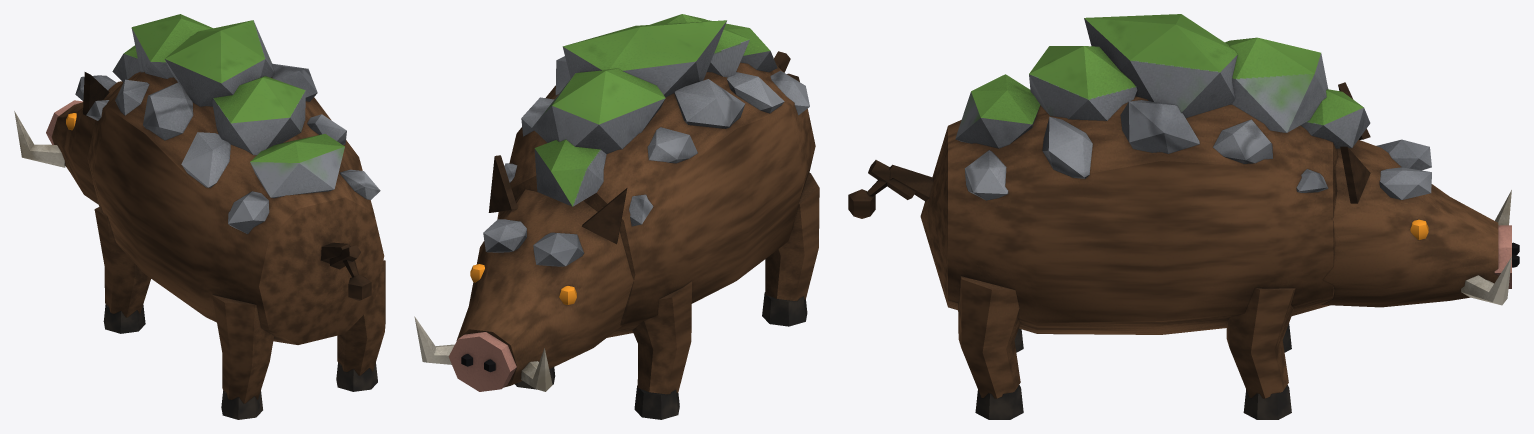
File: jabali_roca.fbx
3 renders of one model, left to right at view 1: azimuth 30°, elevation 25°; view 2: azimuth 150°, elevation 25°; view 3: azimuth 270°, elevation 25°, orthographic. The views are drawn at different scales.
Parts seen in each view (by area): view 1: jabali_roca, jabali_roca_pata_tras_der, jabali_roca_cabeza, jabali_roca_pata_del_der, jabali_roca_pata_tras_izq, jabali_roca_cola; view 2: jabali_roca, jabali_roca_cabeza, jabali_roca_pata_del_der, jabali_roca_pata_tras_der; view 3: jabali_roca, jabali_roca_cabeza, jabali_roca_pata_tras_izq, jabali_roca_pata_del_izq, jabali_roca_cola.
Part boxes in pixels (left/top/right/bottom): jabali_roca: left=86, top=14, right=384, bottom=344; jabali_roca_pata_tras_der: left=212, top=295, right=274, bottom=419; jabali_roca_cabeza: left=14, top=72, right=122, bottom=204; jabali_roca_pata_del_der: left=94, top=206, right=150, bottom=333; jabali_roca_pata_tras_izq: left=336, top=260, right=385, bottom=391; jabali_roca_cola: left=329, top=245, right=360, bottom=269; jabali_roca: left=497, top=14, right=815, bottom=337; jabali_roca_cabeza: left=414, top=155, right=633, bottom=391; jabali_roca_pata_del_der: left=632, top=281, right=691, bottom=419; jabali_roca_pata_tras_der: left=762, top=172, right=819, bottom=326; jabali_roca: left=848, top=14, right=1370, bottom=334; jabali_roca_cabeza: left=1321, top=82, right=1519, bottom=307; jabali_roca_pata_tras_izq: left=958, top=276, right=1023, bottom=419; jabali_roca_pata_del_izq: left=1226, top=288, right=1295, bottom=419; jabali_roca_cola: left=868, top=160, right=915, bottom=199.
Size of the model in its own units: 3.8 by 5.67 by 9.76.
Materials: 1 (1 with a texture image).
